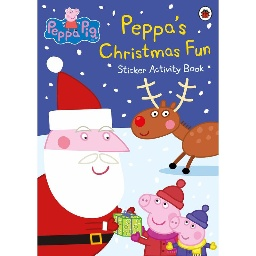Peppa: (132, 179, 187, 256)
